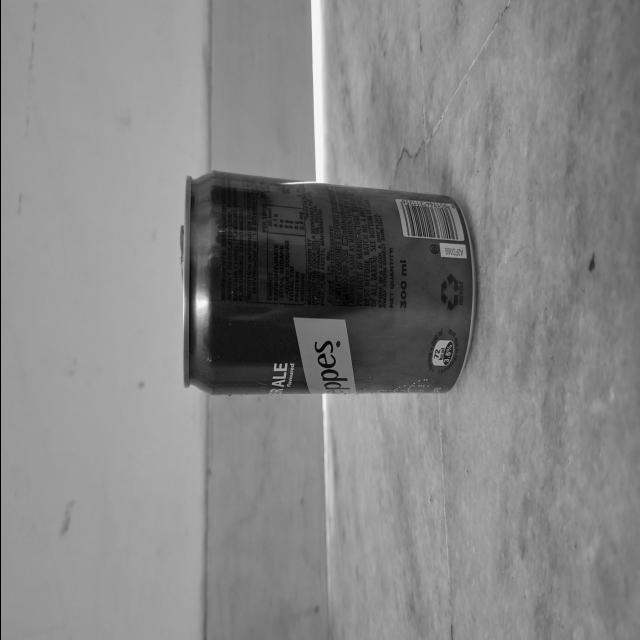Schweppes: (172, 173, 480, 410)
